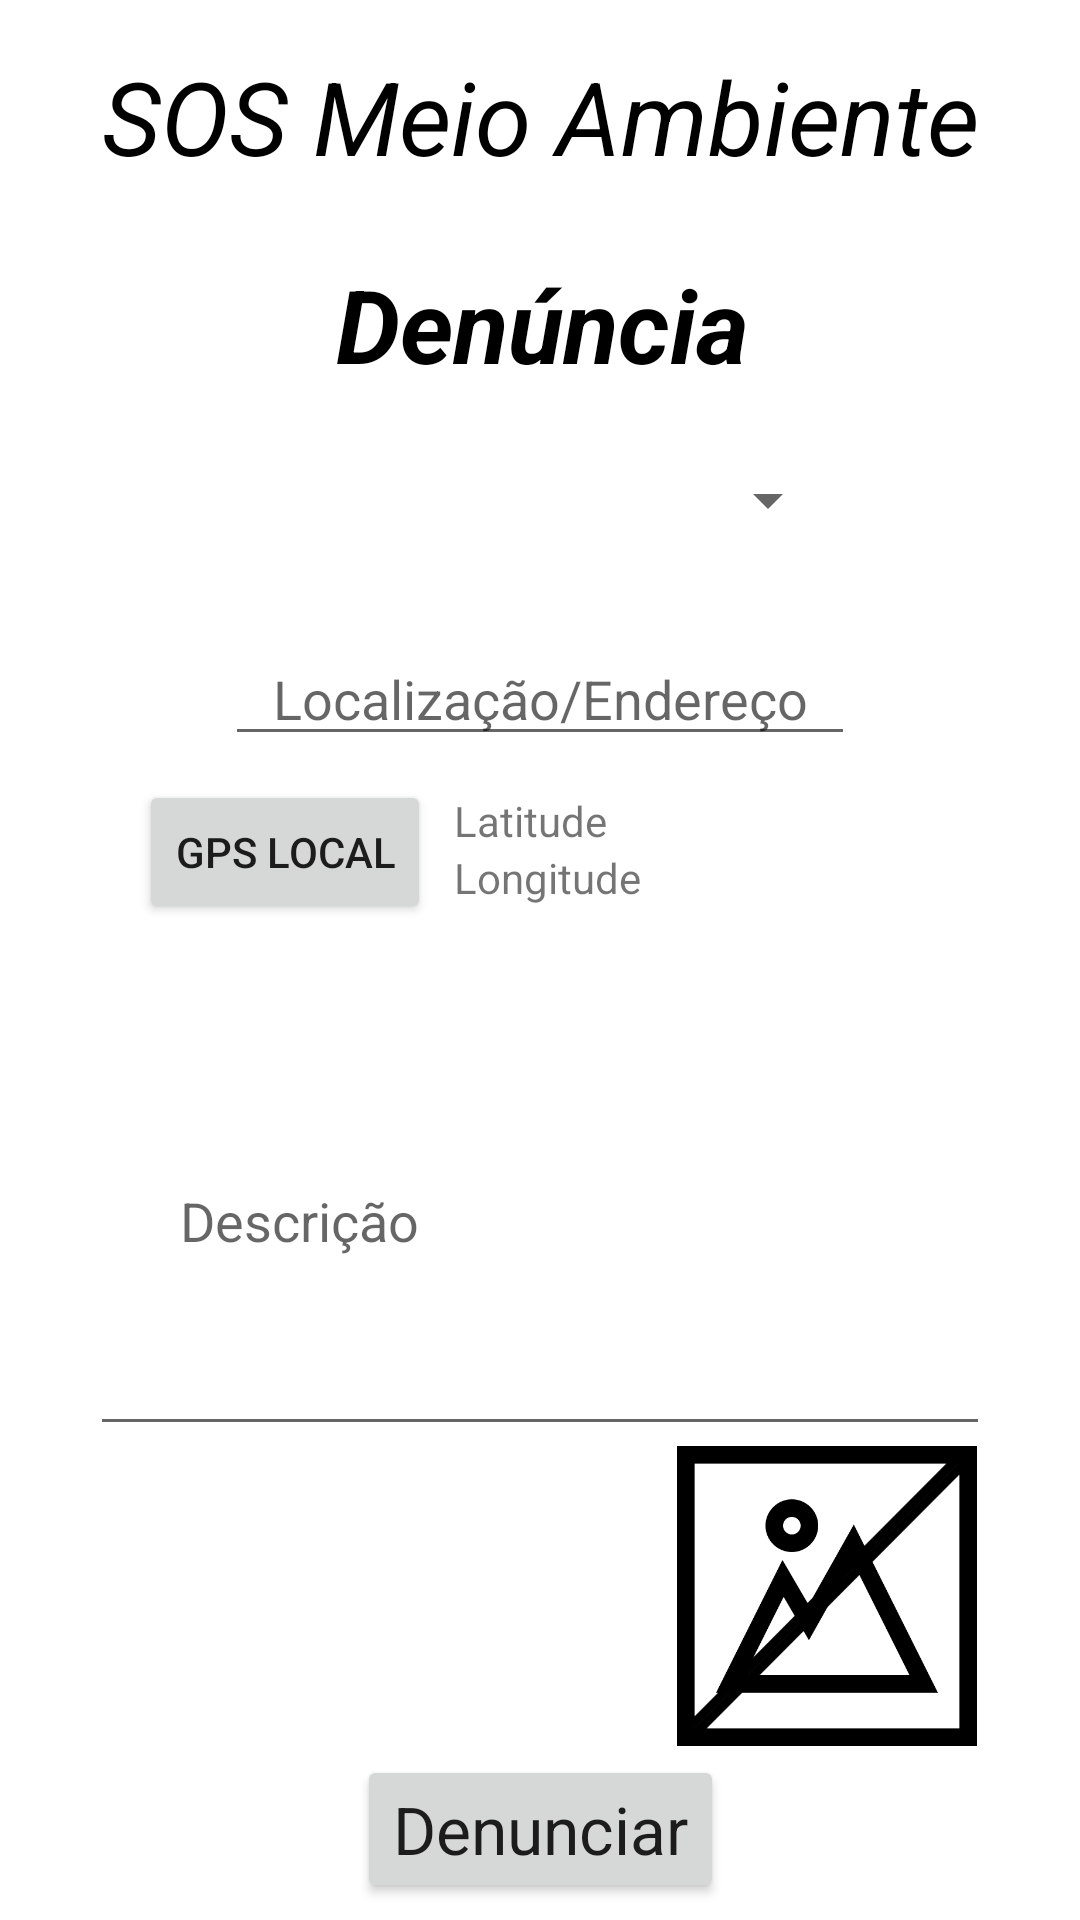

Named icons in this screenshot (1080x1920) and their centers, (x,y):
paisagem: (827,1596)
